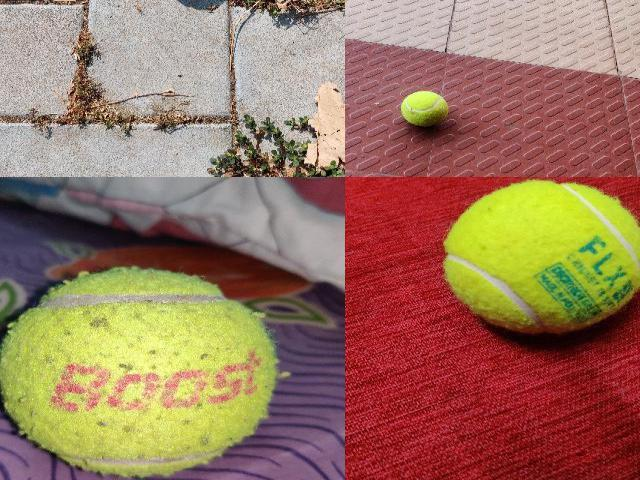tennis-ball: (0, 262, 279, 480), (443, 179, 639, 334), (400, 92, 448, 126)
